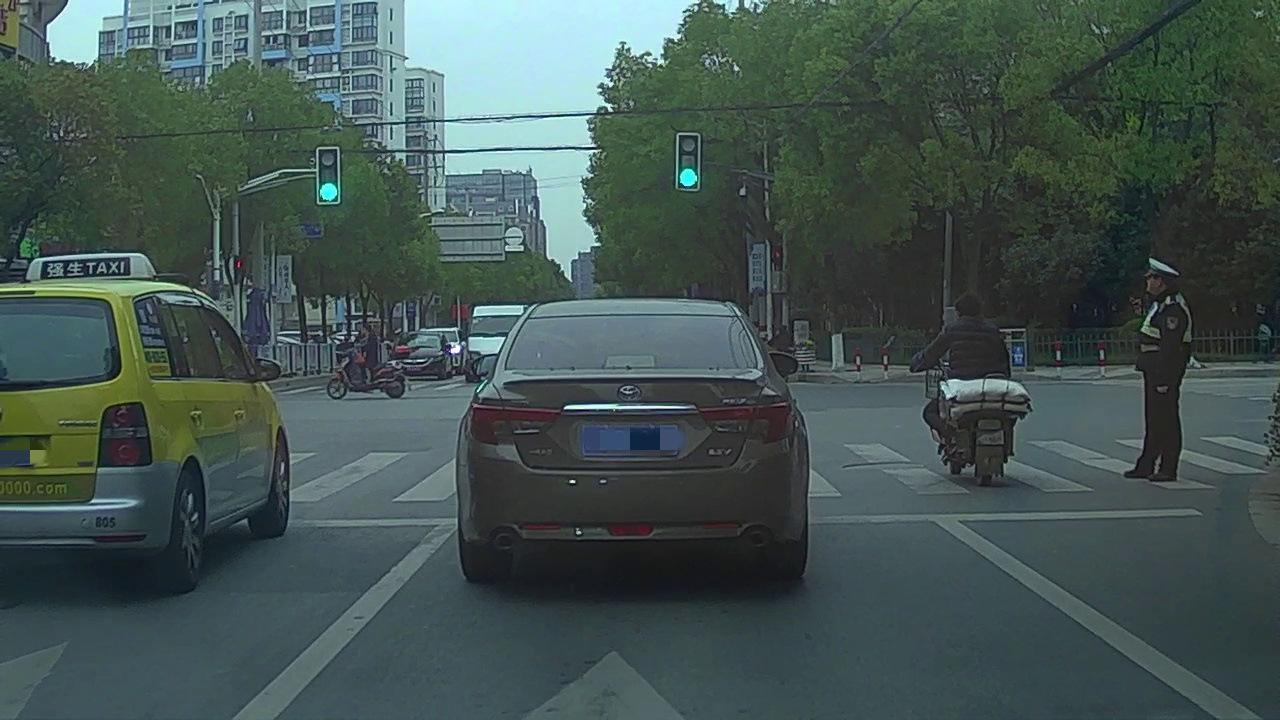traffic_light: (677, 134, 700, 190), (319, 148, 338, 202)
